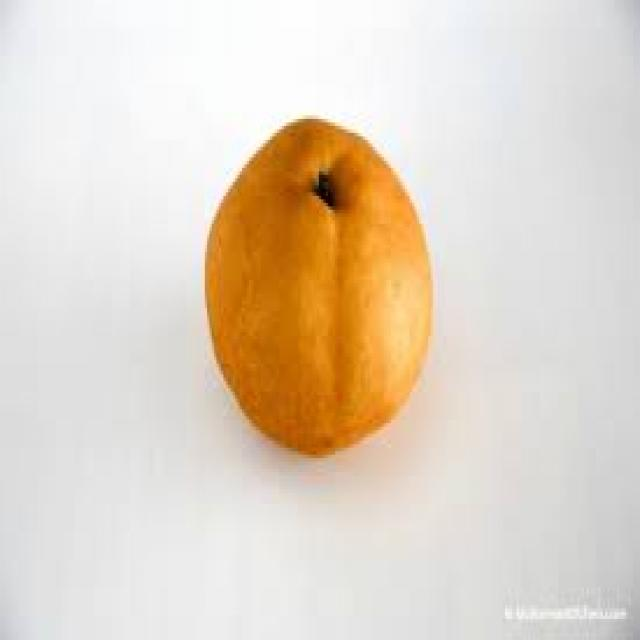pear: (191, 95, 451, 493)
